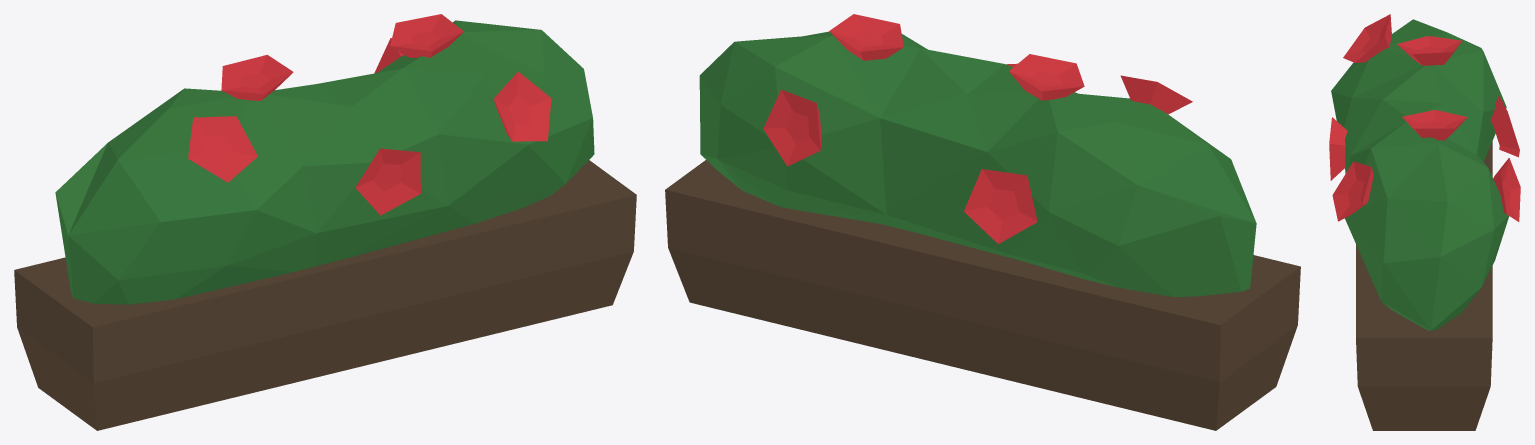
Rendered from flowers-window.glb.
The picture shows the model from 3 angles, left to right: view 1: azimuth 30°, elevation 25°; view 2: azimuth 150°, elevation 25°; view 3: azimuth 270°, elevation 25°; orthographic projection. The views are drawn at different scales.
Visible parts, largest first — view 1: flowers-window; view 2: flowers-window; view 3: flowers-window.
Boxes of the visible parts, x1,y1,x2,y2 form: flowers-window: (14, 14, 636, 430); flowers-window: (665, 14, 1300, 430); flowers-window: (1329, 14, 1520, 430).
Size of the model in its own units: 0.9992 by 0.5081 by 0.3503.
Materials: 1 (1 with a texture image).
